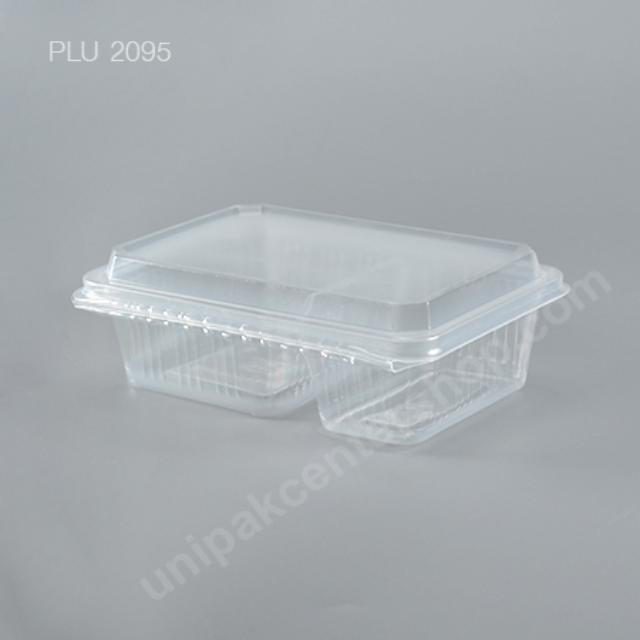Plastico descartable: (74, 205, 569, 444)
